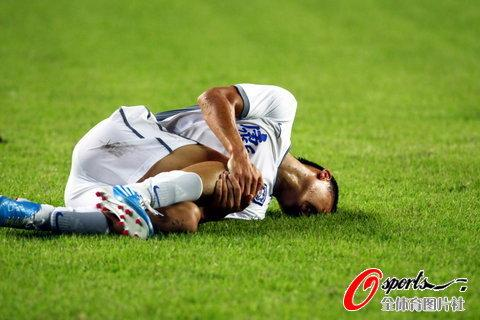fall: (0, 73, 342, 248)
